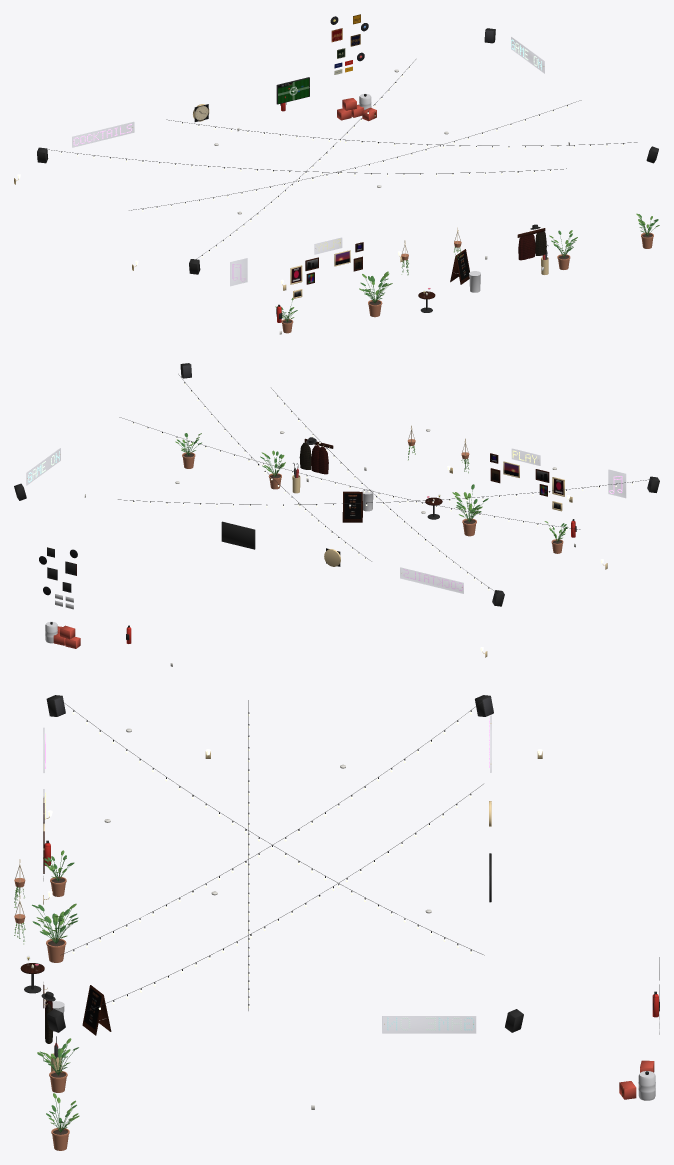
File: decor_walls.glb
3 views of the same model, one above another, from view 1: azimuth 30°, elevation 25°; view 2: azimuth 150°, elevation 25°; view 3: azimuth 270°, elevation 25° (orthographic). The views are drawn at different scales.
Visible parts, largest first — view 1: Neon backer, Black plastic, Cord, Leaves, Terracotta, Photos, TV screen, Crate plastic, Brass, Edison bulb, Prop dark wood; view 2: Black plastic, Neon backer, Cord, Leaves, Brass, Terracotta, Photos, Stainless, Edison bulb, Prop dark wood, Crate plastic, Coat 2 (+1 smaller); view 3: Black plastic, Neon backer, Leaves, Cord, Terracotta, Edison bulb, Leaves light, Stainless.
Boxes of the visible parts, x1,y1,x2,y2 form: Neon backer: (72,37,544,285); Black plastic: (37,28,658,319); Cord: (48,59,637,258); Leaves: (281,214,658,322); Terracotta: (281,232,653,333); Photos: (291,243,362,297); TV screen: (278,78,309,103); Crate plastic: (337,98,376,121); Brass: (14,43,548,298); Edison bulb: (60,67,623,257); Prop dark wood: (305,228,545,299); Black plastic: (14,363,659,640); Neon backer: (26,448,625,593); Cord: (118,374,648,590); Leaves: (177,433,567,542); Brass: (27,425,607,657); Terracotta: (182,439,563,553); Photos: (491,454,563,509); Stainless: (45,489,373,643); Edison bulb: (133,383,633,590); Prop dark wood: (304,438,549,505); Crate plastic: (53,625,80,648); Coat 2: (311,445,328,474); Black plastic: (24,695,659,1074); Neon backer: (43,716,491,1033); Leaves: (14,855,78,1132); Cord: (60,700,484,1011); Terracotta: (14,876,69,1150); Edison bulb: (72,712,472,1009); Leaves light: (14,850,79,1125); Stainless: (52,1001,659,1100).
Bounding box in the file's own units: 18 × 4 × 15.09.
Materials: 63 (13 with a texture image).
